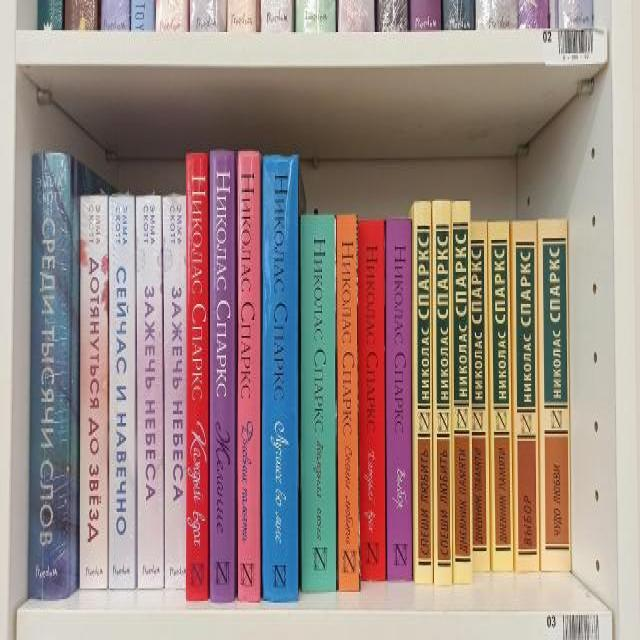book: (32, 153, 70, 598), (264, 158, 299, 600), (303, 214, 336, 590), (538, 219, 570, 574), (210, 150, 235, 599), (81, 197, 108, 587), (137, 197, 163, 587), (358, 221, 386, 580), (238, 152, 260, 600), (110, 196, 135, 590), (187, 153, 208, 599), (512, 222, 538, 572), (387, 220, 412, 581), (163, 198, 185, 588), (338, 216, 358, 588), (413, 200, 432, 585), (491, 222, 512, 570), (434, 202, 451, 587), (454, 202, 471, 584), (471, 221, 489, 569)
